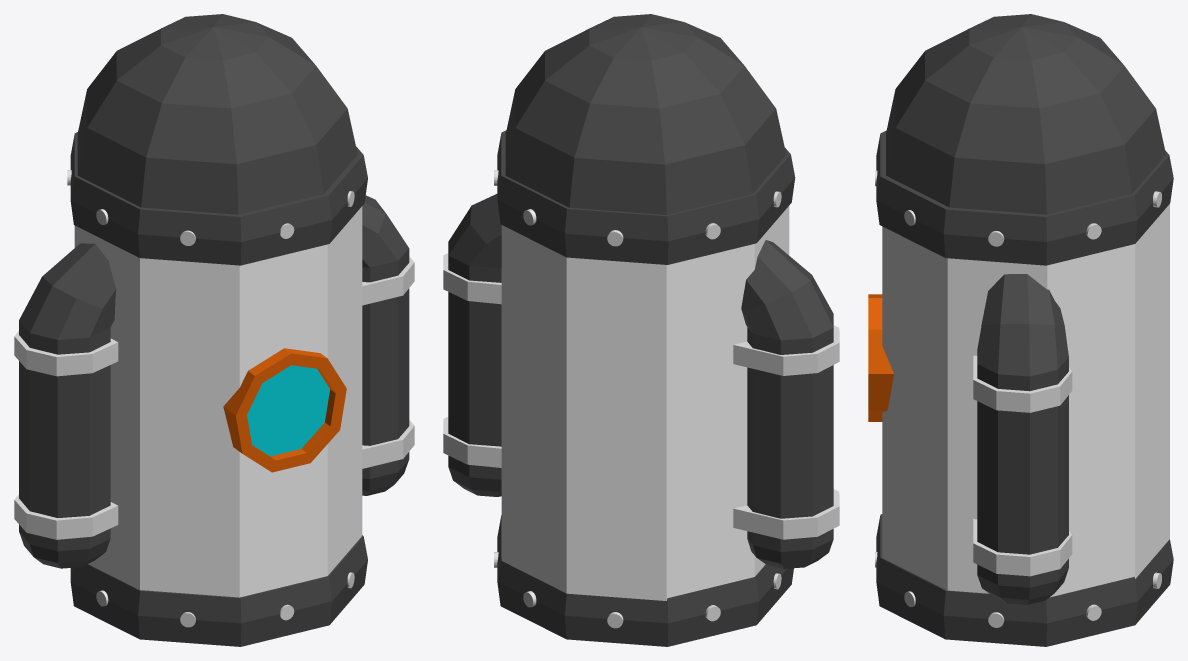
Rendered from Rocket Wide 1.fbx.
3 renders of one model, left to right at view 1: azimuth 30°, elevation 25°; view 2: azimuth 150°, elevation 25°; view 3: azimuth 270°, elevation 25°, orthographic.
Parts seen in each view (by area): view 1: Окружность.005; view 2: Окружность.005; view 3: Окружность.005.
Boxes of the visible parts, bbox=[...] form: Окружность.005: bbox=[14, 14, 414, 646]; Окружность.005: bbox=[443, 14, 839, 646]; Окружность.005: bbox=[868, 14, 1173, 646].
Size of the model in its own units: 424 by 584 by 290.
